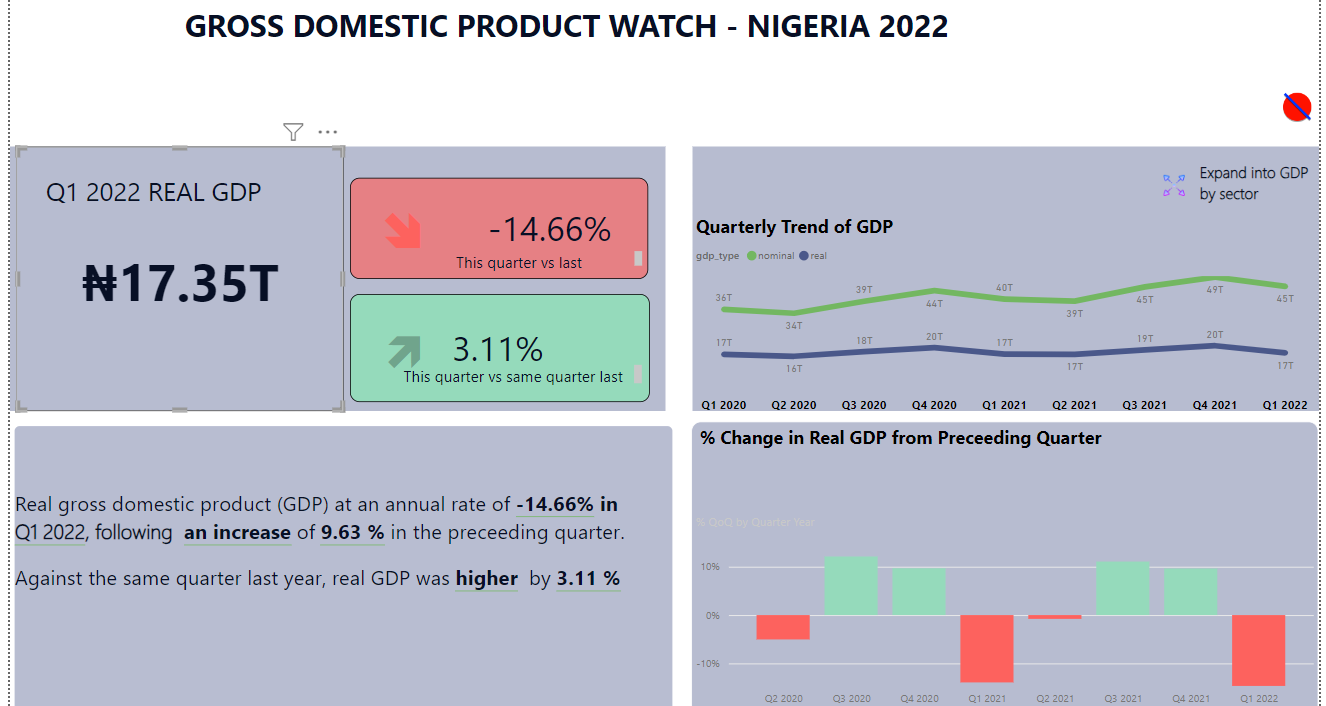

Layout of this report page (visuals, bound fields, positions):
{"tool":"powerbi","page":{"name":"Page 1","canvas":[1366,768],"ordinal":0},"visuals":[{"type":"image","box":[1184.6,196.4,61.3,37.3],"z":0,"group":"g1"},{"type":"textbox","title":"Heading","box":[177,21,832,104],"z":0},{"type":"textbox","box":[1236.6,185.1,129.3,60],"z":1000,"group":"g1"},{"type":"textbox","title":"real gdp background","box":[0,174.7,684,276],"z":1000},{"type":"textbox","title":"qoq background","box":[354.6,207.5,311.2,105.3],"z":2000},{"type":"card","title":"qoq text","fields":{"Values":["Table.% QoQ"]},"box":[459.9,207.5,205.9,105.3],"z":3000},{"type":"card","title":"qoq indicator","fields":{"Values":["Table.QoQ indicator"]},"box":[354.6,207.5,109.9,105.3],"z":4000},{"type":"textbox","box":[459.9,278.7,204.4,34.1],"z":5000},{"type":"textbox","title":"% Change in Real GDP from Preceeding Quarter","box":[711,462,654,306],"z":6000},{"type":"textbox","title":"yoy background","box":[354.6,328.3,312.8,113],"z":7000},{"type":"textbox","title":"smart narrative","box":[0,462,696,306],"z":8000},{"type":"textbox","title":"yoy","box":[348.1,402.2,314.3,38.7],"z":9000},{"type":"card","title":"yoy text","fields":{"Values":["Table.% YoY"]},"box":[348.1,327.9,322.1,114.6],"z":10000},{"type":"card","title":"yoy indicator","fields":{"Values":["Table.YoY indicator"]},"box":[354.6,329.8,109.9,111.5],"z":11000},{"type":"textbox","title":"background line","box":[712,174.7,654.7,276],"z":12000},{"type":"card","title":"gdp text","fields":{"Values":["Table.current real gdp"]},"box":[6.7,174.7,341.3,276],"z":13000},{"type":"card","fields":{"Values":["Table.current quarter text"]},"box":[0,195.9,299.8,52.9],"z":14000},{"type":"textbox","box":[406.2,397.4,258.6,38.7],"z":15000},{"type":"lineChart","title":"Quarterly Trend of GDP","fields":{"Category":["data table.Quarter Year"],"Y":["Table.gdp"],"Series":["gdp.gdp_type"]},"box":[711.2,244.9,654.4,217.5],"z":16000},{"type":"clusteredColumnChart","fields":{"Category":["data table.Quarter Year"],"Y":["Table.% QoQ"]},"box":[710.7,558.7,654.7,209.3],"z":17000},{"type":"textbox","box":[0,526.7,684,230.7],"z":18000},{"type":"image","title":"clsoe button","box":[1320,106.7,46.7,53.3],"z":19000},{"type":"group","id":"g1","title":"expand button","box":[1184.6,185.1,181.7,60],"z":21000}]}

Visuals, with their boxes in screenshot pixels (x1, y1, x2, y2):
image: rect(1155, 163, 1215, 200)
"Heading" textbox: rect(175, 0, 984, 94)
textbox: rect(1206, 152, 1325, 211)
"real gdp background" textbox: rect(3, 142, 668, 411)
"qoq background" textbox: rect(348, 174, 651, 277)
"qoq text" card: rect(451, 174, 651, 277)
"qoq indicator" card: rect(348, 174, 455, 277)
textbox: rect(451, 243, 649, 277)
"% Change in Real GDP from Preceeding Quarter" textbox: rect(695, 422, 1325, 705)
"yoy background" textbox: rect(348, 292, 652, 402)
"smart narrative" textbox: rect(3, 422, 680, 705)
"yoy" textbox: rect(342, 364, 647, 401)
"yoy text" card: rect(342, 291, 655, 403)
"yoy indicator" card: rect(348, 293, 455, 402)
"background line" textbox: rect(696, 142, 1325, 411)
"gdp text" card: rect(10, 142, 342, 411)
card - Table.current quarter text: rect(3, 163, 295, 214)
textbox: rect(398, 359, 650, 396)
"Quarterly Trend of GDP" lineChart: rect(695, 211, 1325, 422)
clusteredColumnChart - data table.Quarter Year x Table.% QoQ: rect(694, 516, 1325, 705)
textbox: rect(3, 485, 668, 705)
"clsoe button" image: rect(1287, 76, 1325, 128)
"expand button" group: rect(1155, 152, 1325, 211)
